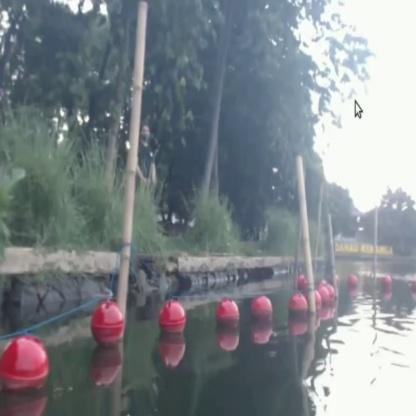red_buoy: (0, 336, 47, 398), (91, 300, 122, 349), (160, 298, 184, 340), (217, 297, 239, 334), (252, 297, 272, 332), (290, 294, 306, 324), (318, 282, 331, 312), (315, 290, 324, 320), (327, 284, 336, 312), (347, 272, 359, 288), (380, 274, 389, 292)
